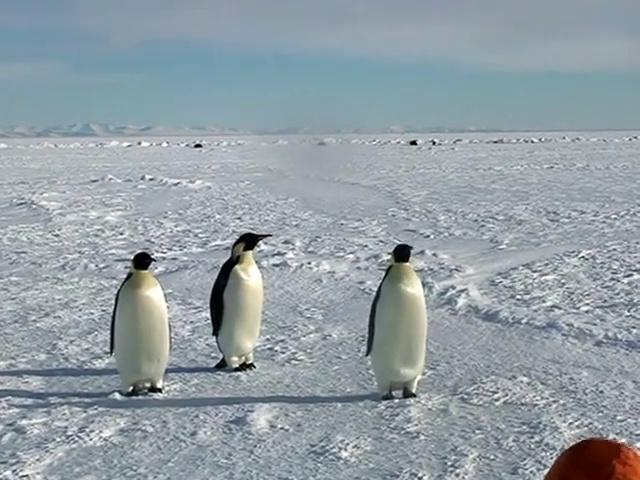animal: (367, 245, 427, 400)
